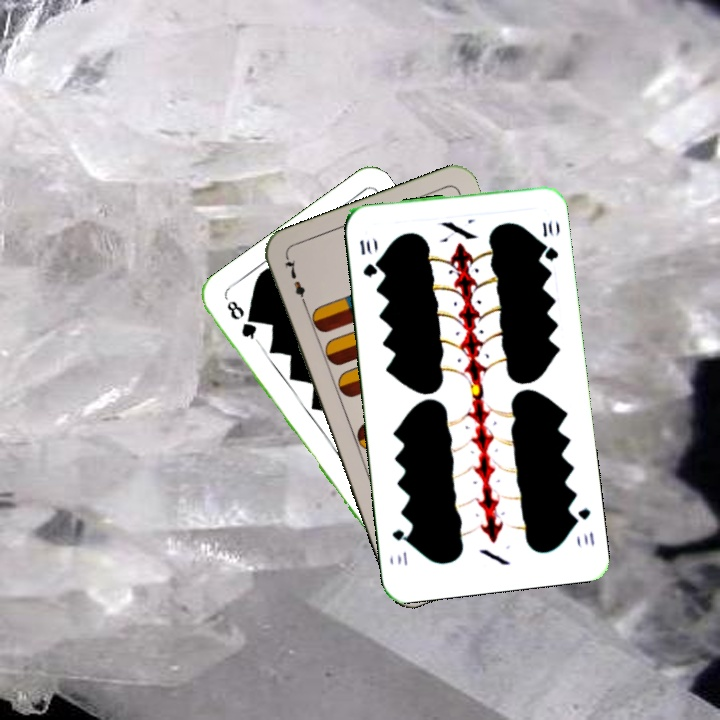E7: (280, 254, 310, 311)
G10: (568, 503, 597, 549), (355, 235, 380, 280)
G8: (222, 296, 262, 346)
